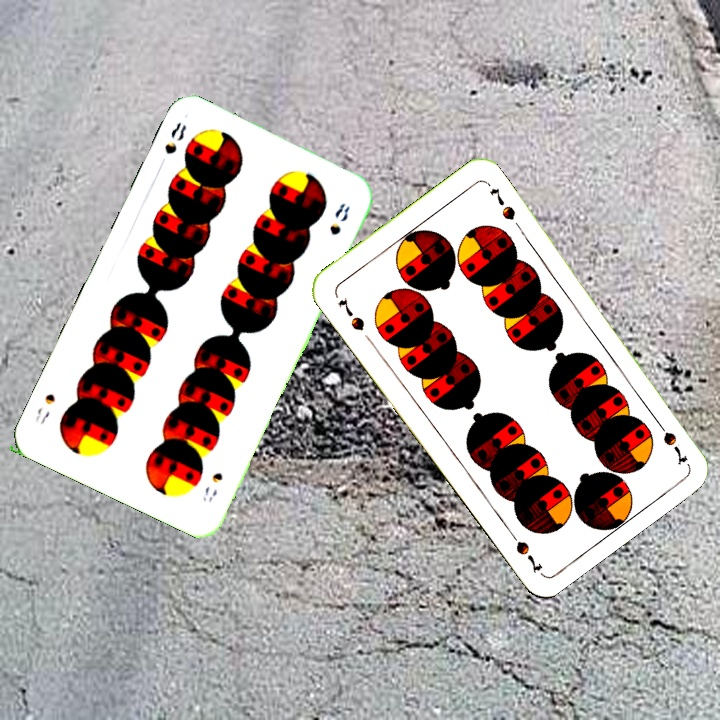S7: (651, 414, 690, 467), (334, 292, 367, 334)
S8: (160, 118, 189, 157), (198, 468, 226, 504)
